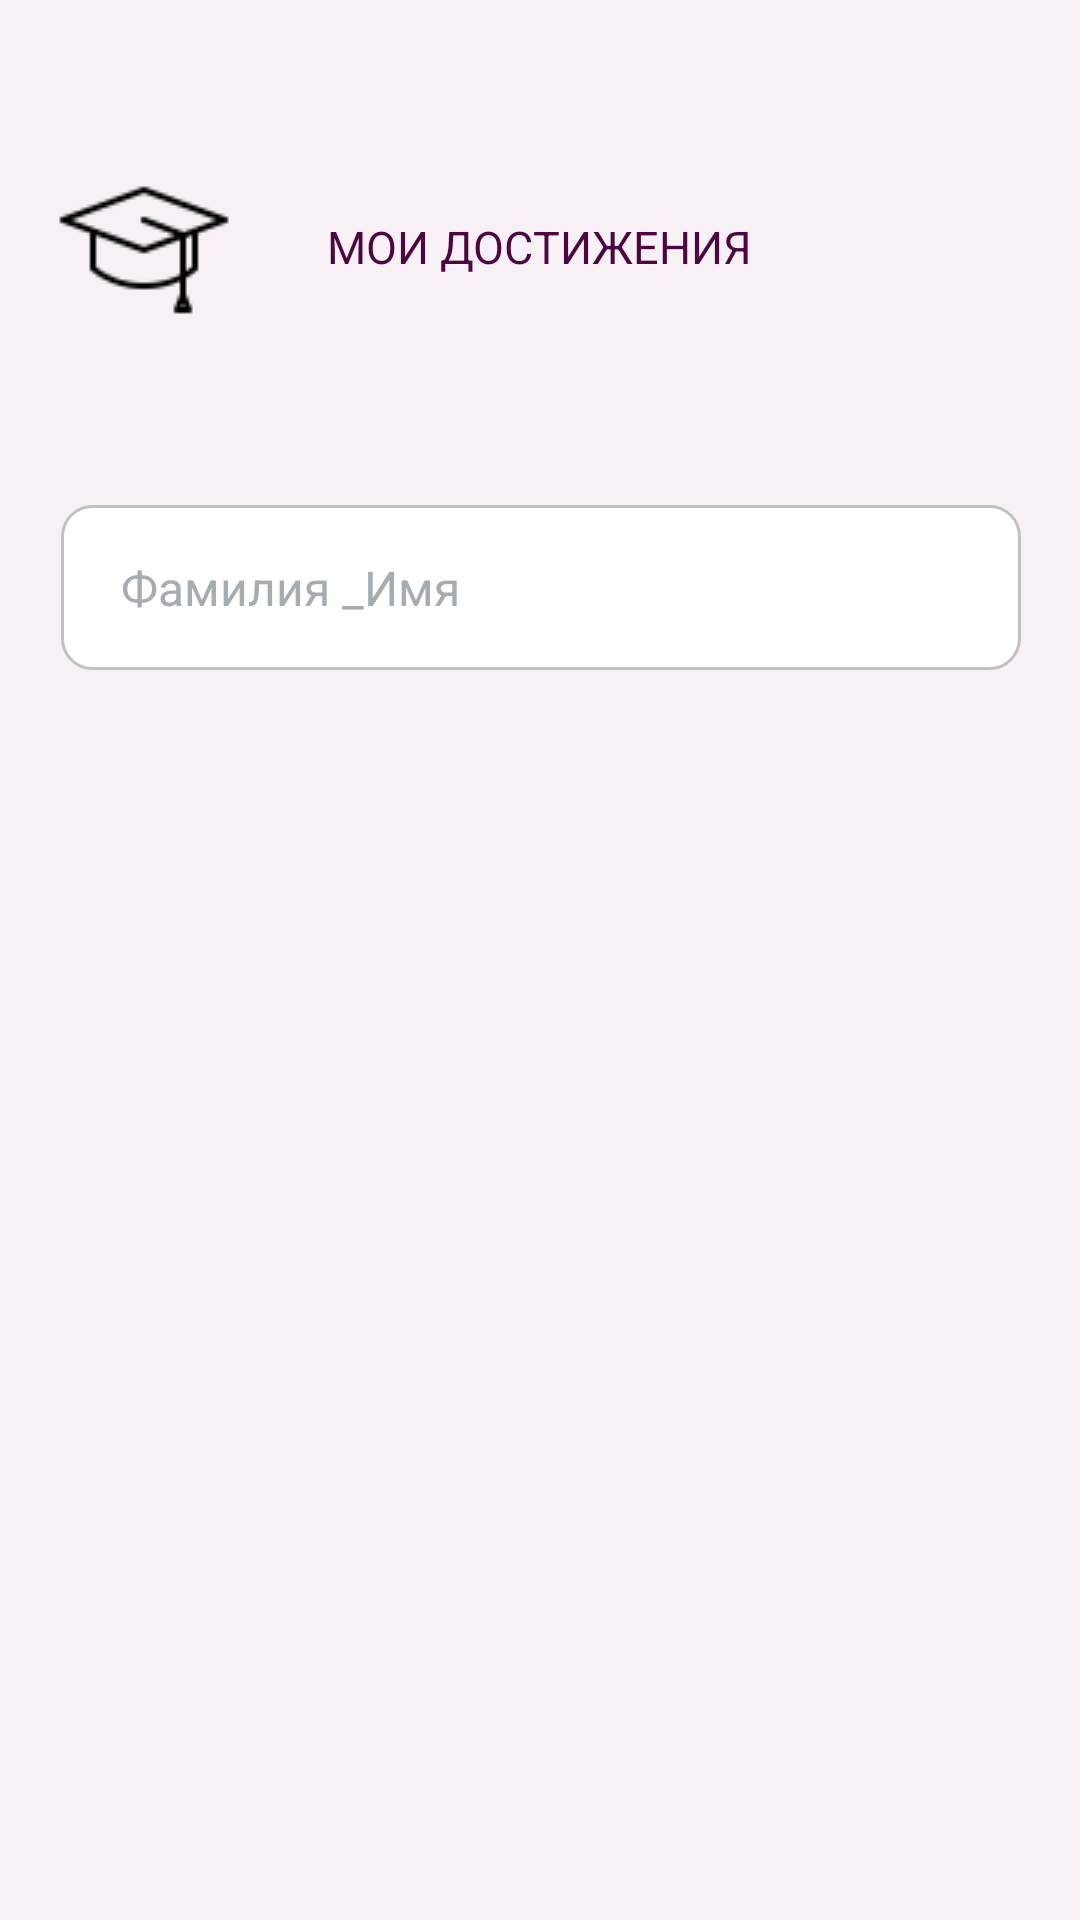

Named icons in this screenshot (1080×1920) and their bounding boxes, (x1, y1, x2, y2):
hat: (59, 186, 229, 314)
